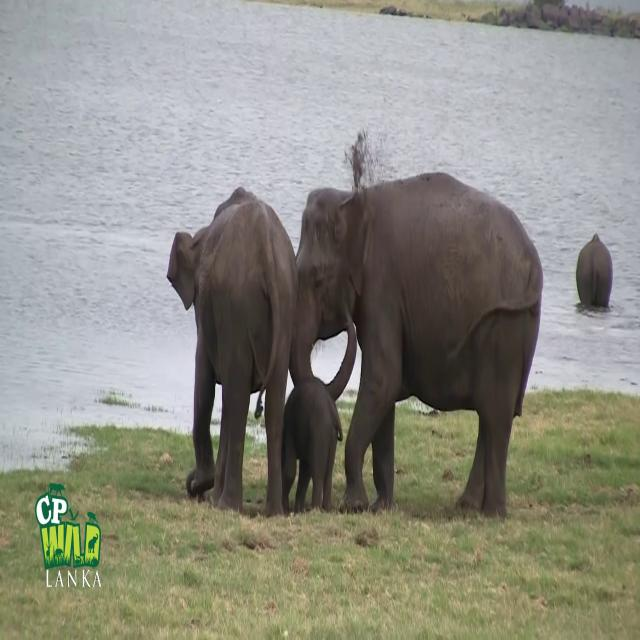Elephant: (291, 170, 544, 519), (166, 185, 299, 517), (576, 232, 613, 308)
